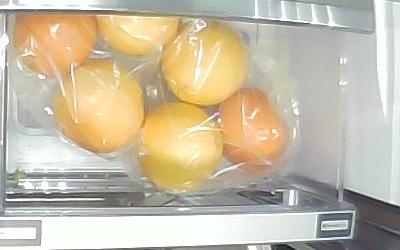grapefruit_vinyl: (52, 60, 143, 155), (133, 102, 223, 193), (159, 20, 246, 107), (215, 86, 287, 173), (13, 13, 96, 81), (97, 13, 180, 58)
